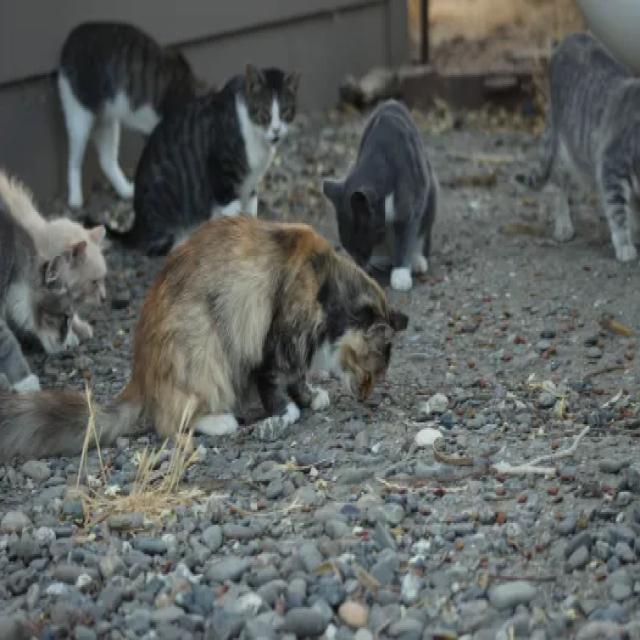cat: (99, 216, 406, 444), (121, 66, 299, 253), (58, 23, 194, 207), (539, 34, 640, 262), (322, 101, 438, 290), (0, 199, 75, 390), (0, 171, 106, 303), (0, 392, 88, 460)
